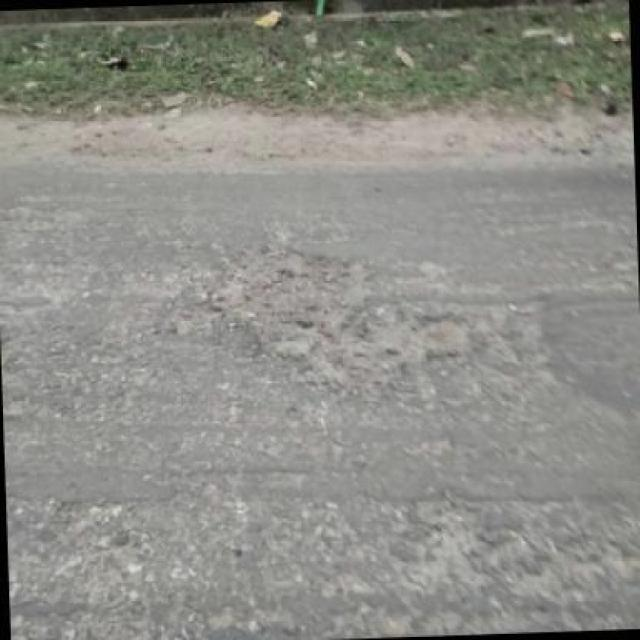pothole: (214, 254, 458, 382)
